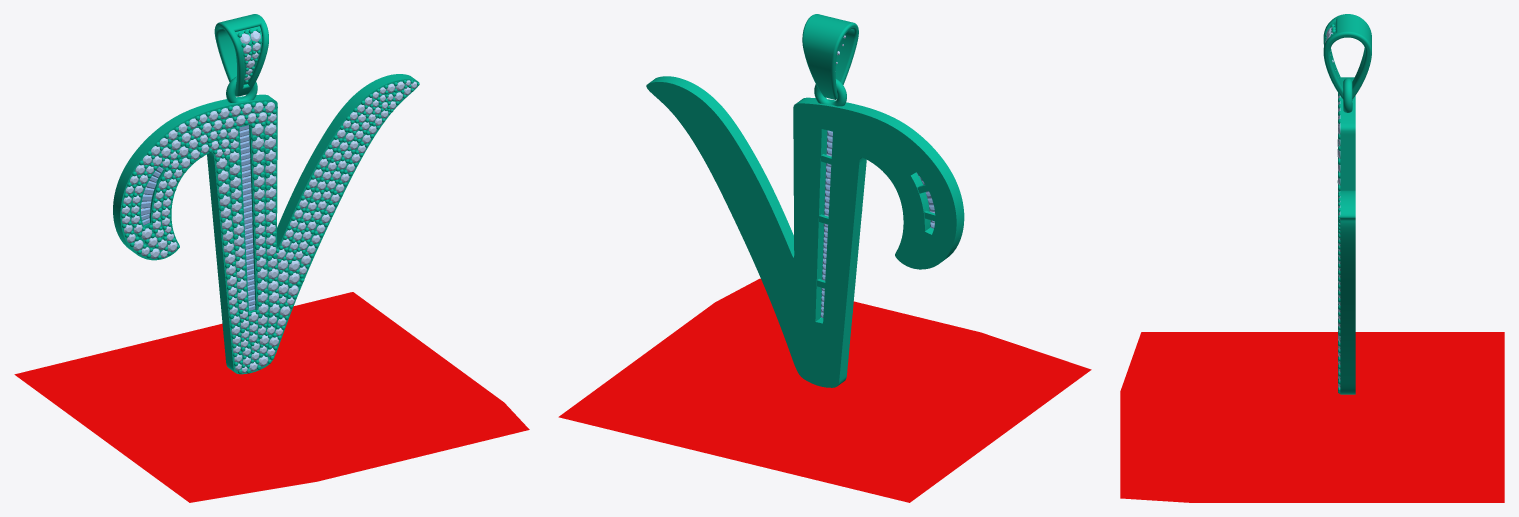
3 views of the same model, side by side, from view 1: azimuth 30°, elevation 25°; view 2: azimuth 150°, elevation 25°; view 3: azimuth 270°, elevation 25° (orthographic). The views are drawn at different scales.
Parts seen in each view (by area): view 1: PN 0024(front).3dm; view 2: PN 0024(front).3dm; view 3: PN 0024(front).3dm.
Boxes of the visible parts, x1,y1,x2,y2 form: PN 0024(front).3dm: [14, 14, 529, 502]; PN 0024(front).3dm: [558, 14, 1091, 502]; PN 0024(front).3dm: [1120, 14, 1504, 502].
Size of what is drawn, in the model's own units: 3 by 3.15 by 2.85.
